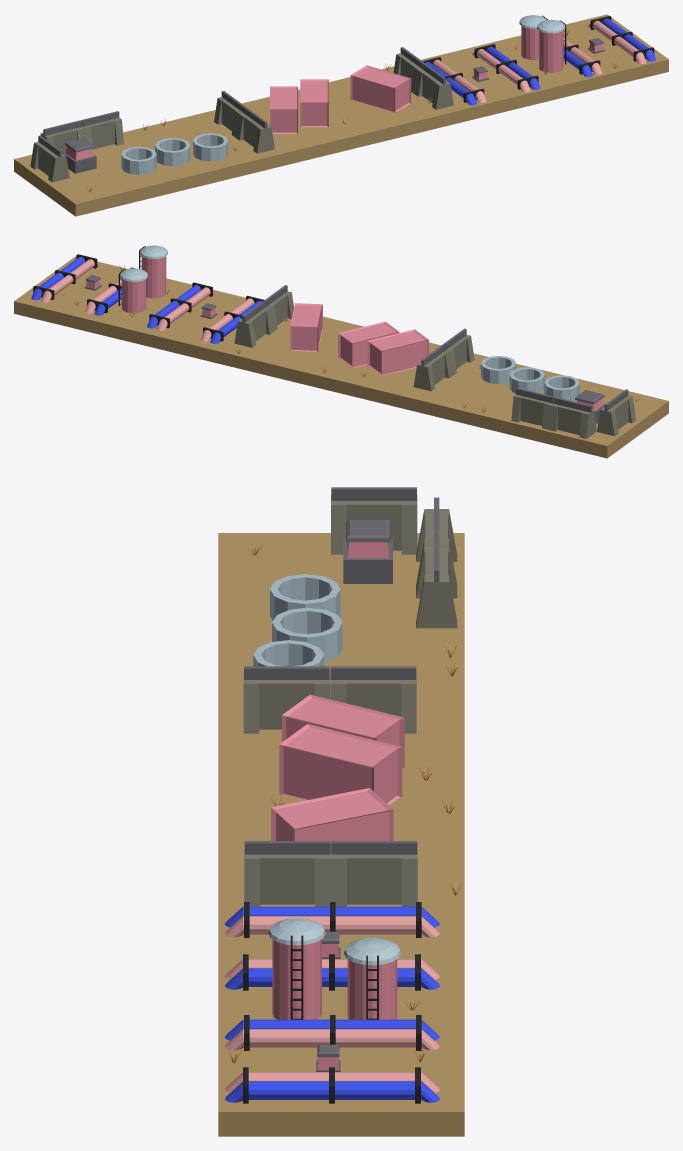
Rendered from Fora-Fabrica-1.glb.
3 renders of one model, top to bottom at view 1: azimuth 30°, elevation 25°; view 2: azimuth 150°, elevation 25°; view 3: azimuth 270°, elevation 25°, orthographic. The views are drawn at different scales.
Visible parts, largest first — view 1: CHAO.015, CONTAINER.013, CONTAINER.011, SILO.003, CONTAINER.012, CANO.011, CANO.013, MURO.010, MURO.013, MURO.012, MURO.008, CANO.014 (+9 smaller); view 2: CHAO.015, CONTAINER.012, CONTAINER.013, MURO.011, CONTAINER.011, MURO.010, CANO.011, CANO.013, SILO.003, SILO.004, MURO.009, MURO.012 (+9 smaller); view 3: CHAO.015, CONTAINER.011, CANO.012, CANO.011, MURO.008, MURO.009, CONTAINER.013, CANO.014, SILO.003, MURO.013, MURO.012, SILO.004 (+9 smaller).
Part boxes in pixels (<box>): CHAO.015: <box>14,14,668,216</box>; CONTAINER.013: <box>350,65,411,112</box>; CONTAINER.011: <box>300,79,328,127</box>; SILO.003: <box>537,20,566,72</box>; CONTAINER.012: <box>270,86,297,133</box>; CANO.011: <box>588,16,655,63</box>; CANO.013: <box>472,44,540,92</box>; MURO.010: <box>81,111,123,151</box>; MURO.013: <box>235,106,274,153</box>; MURO.012: <box>30,135,69,182</box>; MURO.008: <box>414,63,453,109</box>; CANO.014: <box>423,57,486,105</box>; CHAO.015: <box>14,256,668,458</box>; CONTAINER.012: <box>367,329,428,375</box>; CONTAINER.013: <box>290,303,322,351</box>; MURO.011: <box>549,397,596,438</box>; CONTAINER.011: <box>338,321,399,368</box>; MURO.010: <box>511,388,554,429</box>; CANO.011: <box>31,254,99,302</box>; CANO.013: <box>147,282,214,330</box>; SILO.003: <box>139,245,167,298</box>; SILO.004: <box>118,268,147,313</box>; MURO.009: <box>234,301,273,347</box>; MURO.012: <box>597,389,636,436</box>; CHAO.015: <box>218,533,464,1136</box>; CONTAINER.011: <box>279,724,402,804</box>; CANO.012: <box>225,1015,439,1050</box>; CANO.011: <box>225,1067,439,1103</box>; MURO.008: <box>244,841,330,906</box>; MURO.009: <box>331,841,417,906</box>; CONTAINER.013: <box>271,788,393,847</box>; CANO.014: <box>225,902,439,937</box>; SILO.003: <box>268,918,325,1019</box>; MURO.013: <box>243,666,329,733</box>; MURO.012: <box>331,487,417,554</box>; SILO.004: <box>344,938,400,1019</box>.
Bounding box in the file's own units: 50 × 4.75 × 9.
